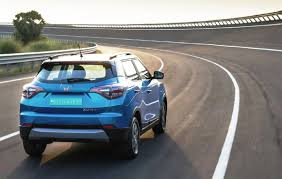XUV 400: (19, 50, 168, 166)
